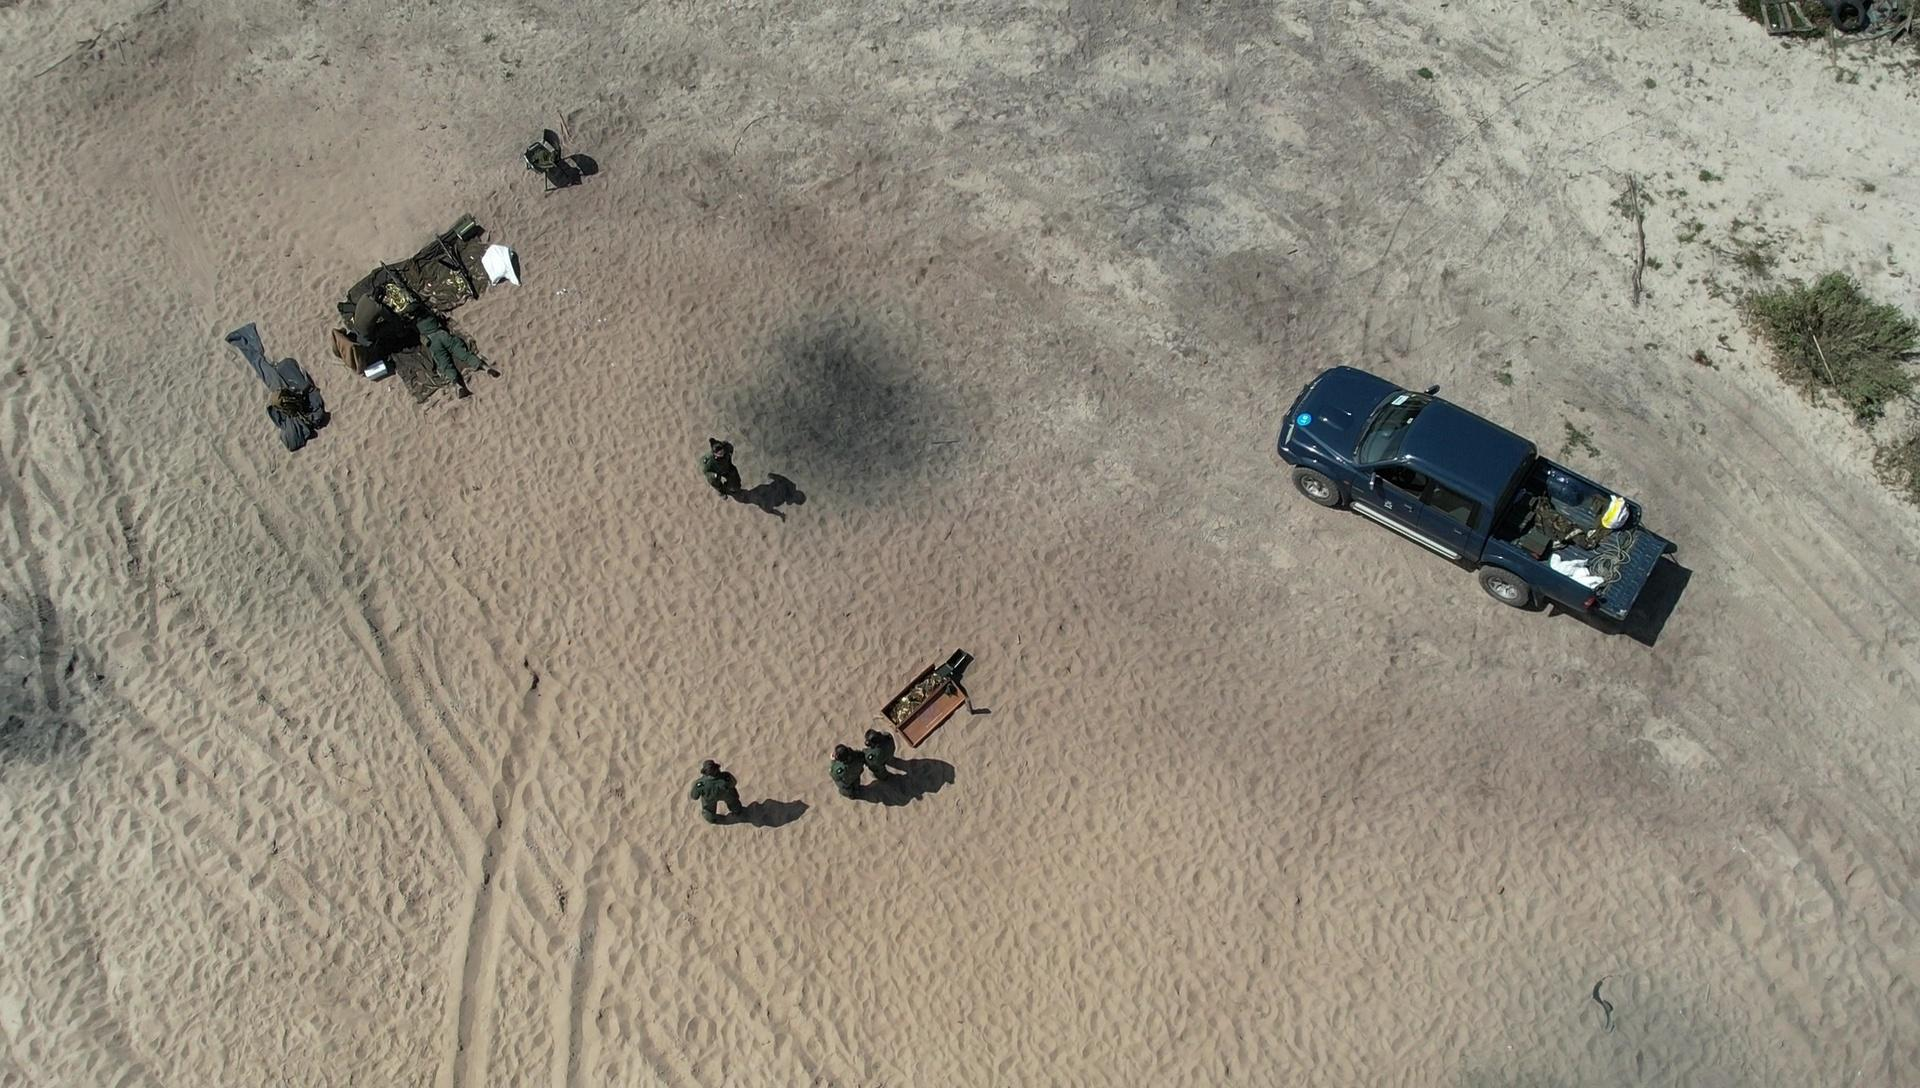Soldier: (409, 299, 508, 409), (692, 427, 754, 509), (340, 280, 411, 346), (688, 754, 746, 830), (855, 721, 905, 785), (829, 735, 862, 799)
